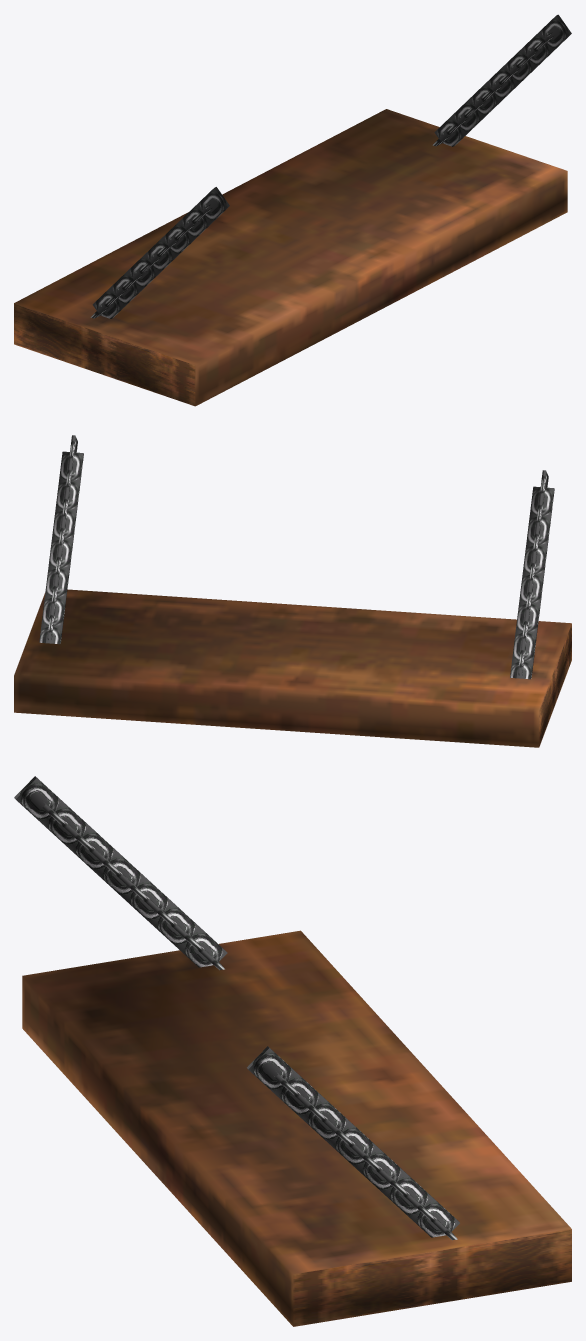
The model's file is SWORDLIGHT20_JAILCOT05.fbx.
The picture shows the model from 3 angles, top to bottom: view 1: azimuth 30°, elevation 25°; view 2: azimuth 150°, elevation 25°; view 3: azimuth 270°, elevation 25°; orthographic projection. The views are drawn at different scales.
Parts seen in each view (by area): view 1: SWORDLIGHT20_JAILCOT05; view 2: SWORDLIGHT20_JAILCOT05; view 3: SWORDLIGHT20_JAILCOT05.
Part boxes in pixels (<box>): SWORDLIGHT20_JAILCOT05: <box>14,14,571,406</box>; SWORDLIGHT20_JAILCOT05: <box>14,435,571,747</box>; SWORDLIGHT20_JAILCOT05: <box>14,776,571,1326</box>.
Bounding box in the file's own units: 26785 × 9715 × 18378.
Materials: 2 (2 with a texture image).
